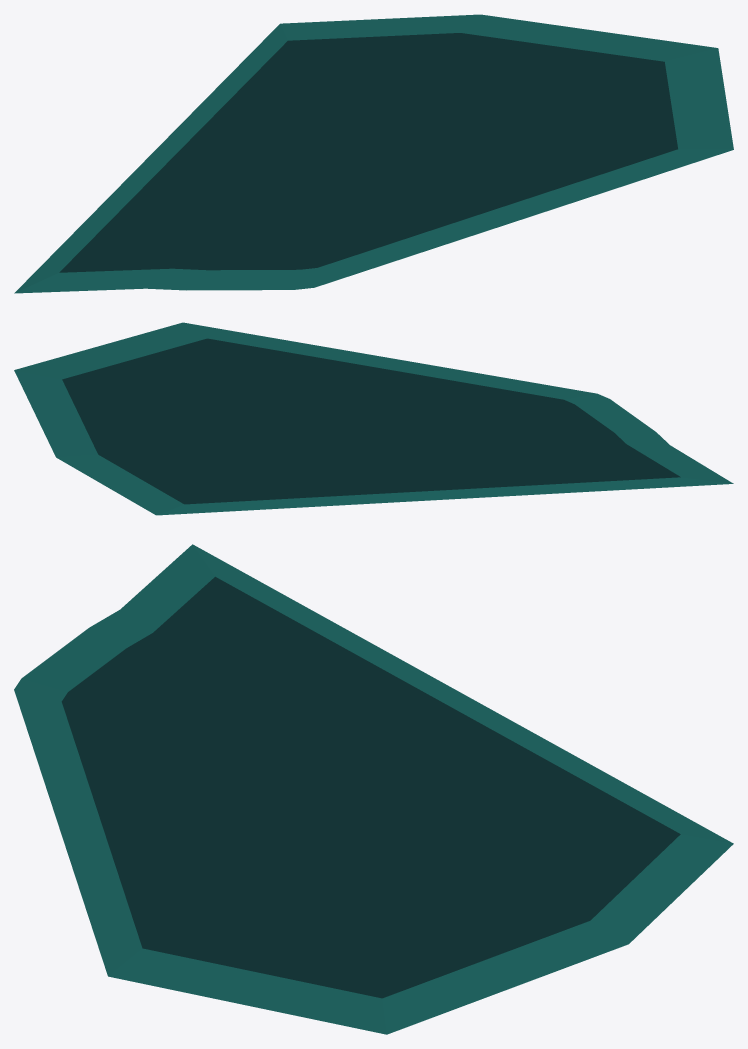
The model's file is drowned_puddle.glb.
3 renders of one model, top to bottom at view 1: azimuth 30°, elevation 25°; view 2: azimuth 150°, elevation 25°; view 3: azimuth 270°, elevation 25°, orthographic. The views are drawn at different scales.
Parts seen in each view (by area): view 1: drowned_puddle; view 2: drowned_puddle; view 3: drowned_puddle.
Boxes of the visible parts, x1=… form: drowned_puddle: x1=14, y1=14, x2=733, y2=293; drowned_puddle: x1=14, y1=322, x2=733, y2=515; drowned_puddle: x1=14, y1=544, x2=733, y2=1034.
Size of the model in its own units: 1.44 by 0.002 by 0.8961.
